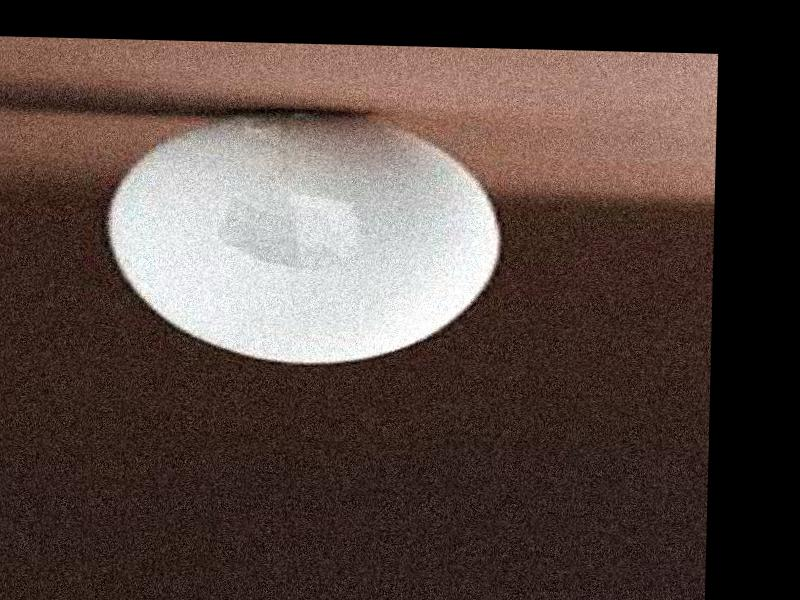Eggs: (111, 106, 501, 368)
